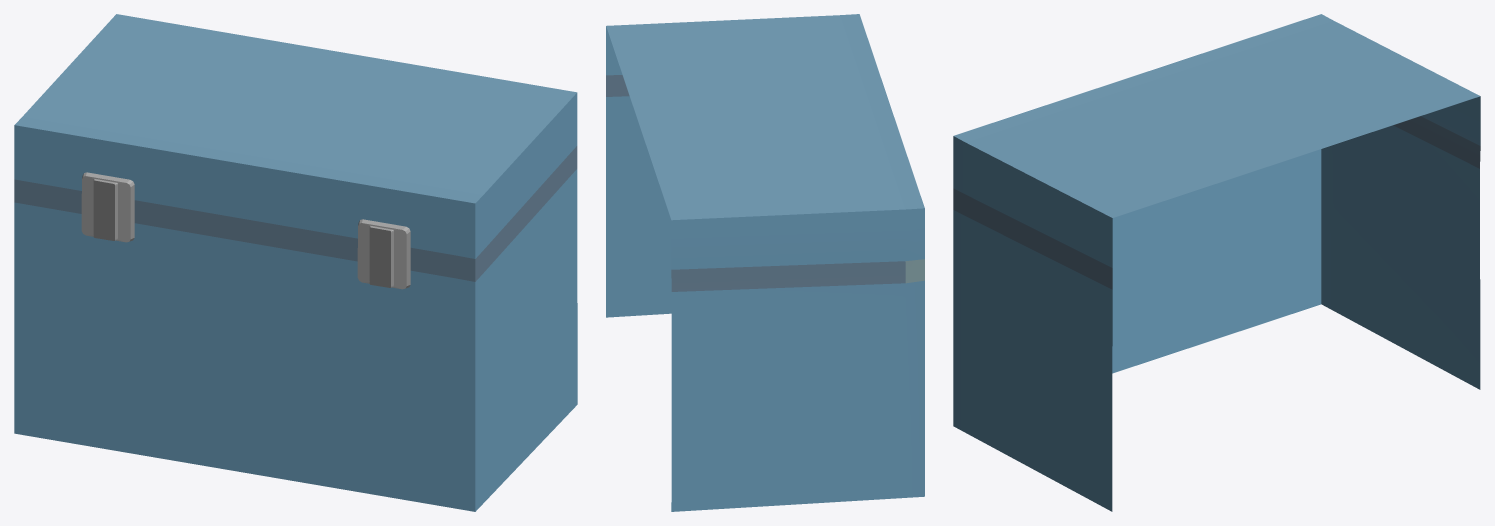
File: MSH_QuestObject_cabinet_02.fbx
3 views of the same model, side by side, from view 1: azimuth 30°, elevation 25°; view 2: azimuth 150°, elevation 25°; view 3: azimuth 270°, elevation 25° (orthographic). The views are drawn at different scales.
Visible parts, largest first — view 1: MSH_QuestObject_cabinet_02; view 2: MSH_QuestObject_cabinet_02; view 3: MSH_QuestObject_cabinet_02.
Part boxes in pixels (x1,y1,x2,y2): MSH_QuestObject_cabinet_02: (14, 14, 577, 511); MSH_QuestObject_cabinet_02: (606, 14, 924, 511); MSH_QuestObject_cabinet_02: (953, 14, 1480, 511).
Size of the model in its own units: 1.3 by 0.8555 by 1.39.
